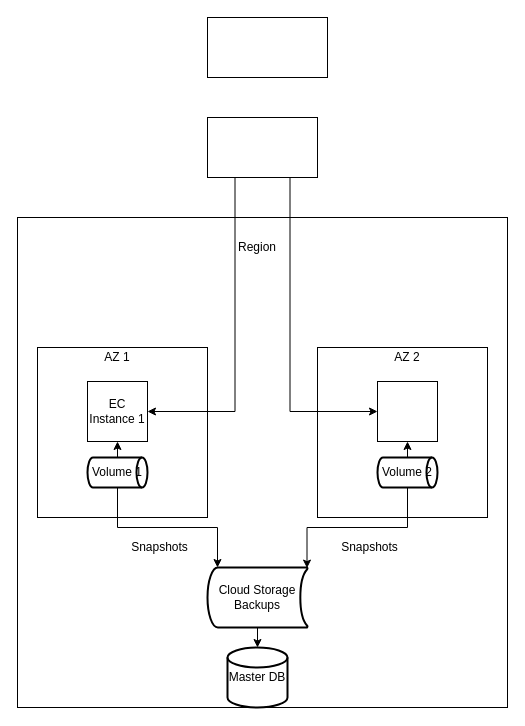
Some shapes in this 525 by 726 pixel diagram are drawn without their labels. The centre of each missing label's shape, as x and y in pixels:
"Application" belongs at point 267,47.
"EC Instance 2" belongs at point 407,411.
"Load Balancer" belongs at point 262,147.
